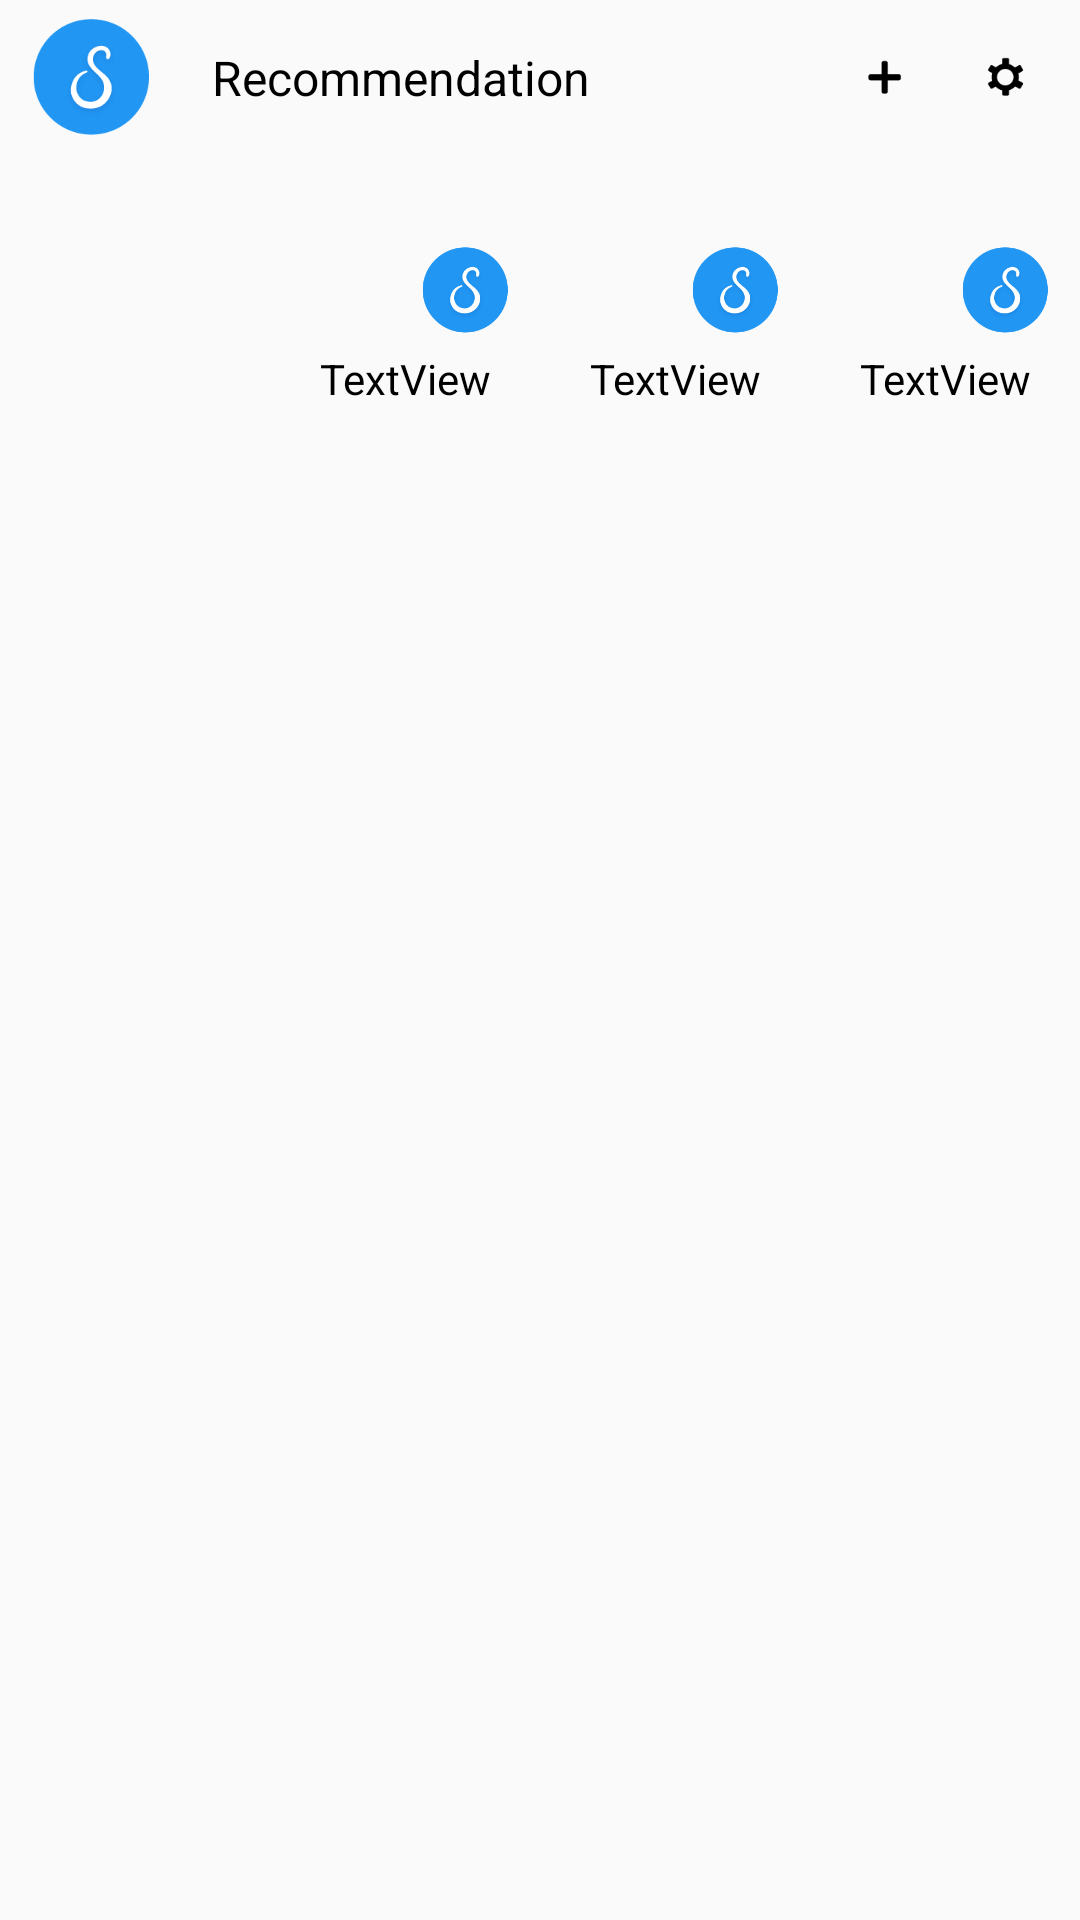

Locate icon controls on the screen. Image size 1080w x 1920h, boxes as (x1, y1, x2, y2).
notification bar add: (868, 60, 901, 94)
notification bar settings: (988, 58, 1023, 96)
